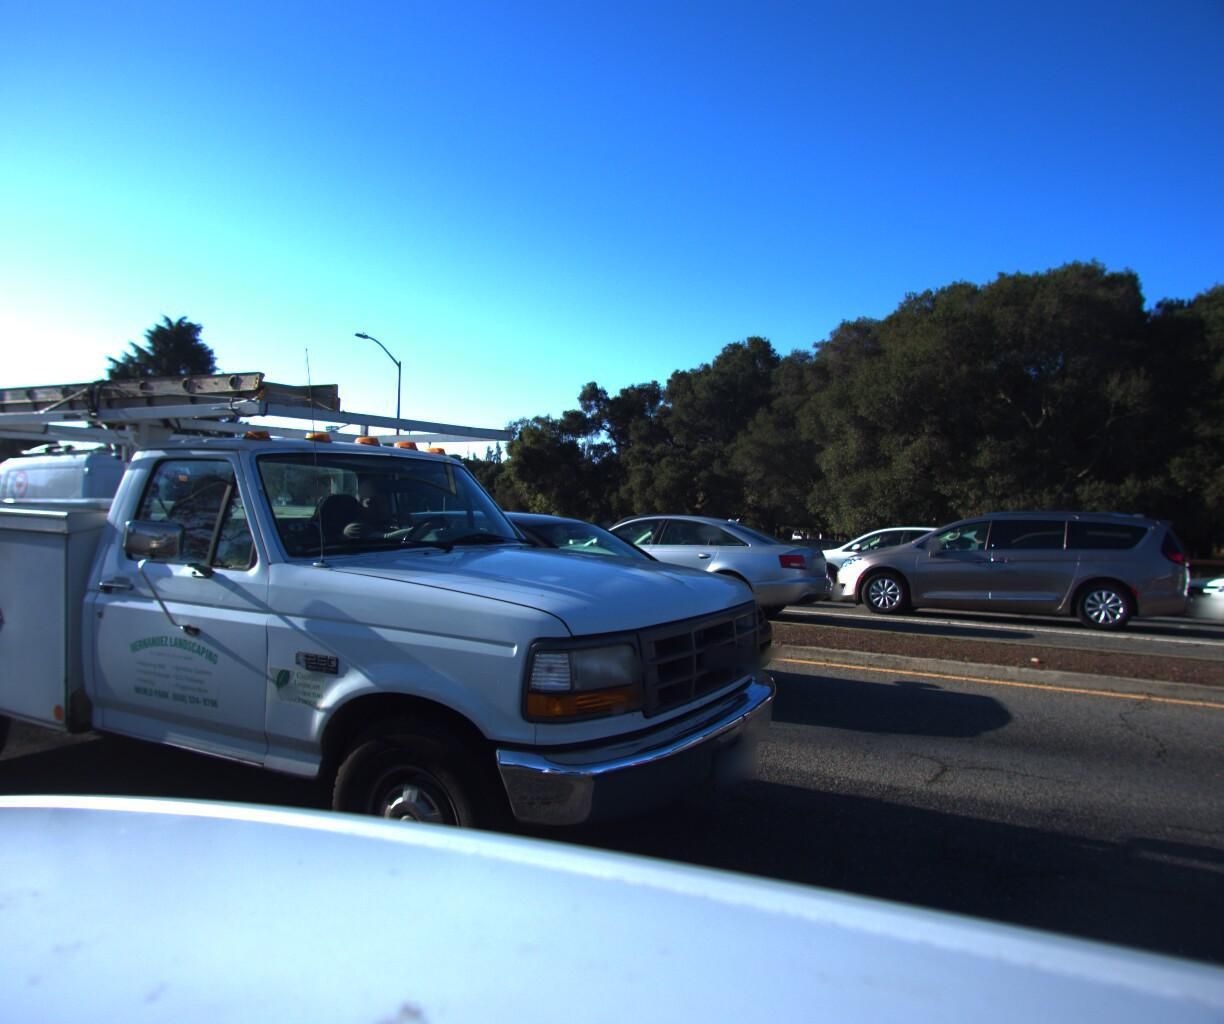bus: (0, 453, 204, 549)
car: (0, 311, 827, 1024), (367, 500, 879, 733), (820, 499, 1198, 642), (486, 505, 844, 625), (0, 438, 168, 566), (776, 515, 1009, 605), (550, 504, 774, 588), (722, 528, 888, 590), (1190, 537, 1224, 656), (1174, 545, 1224, 623)
